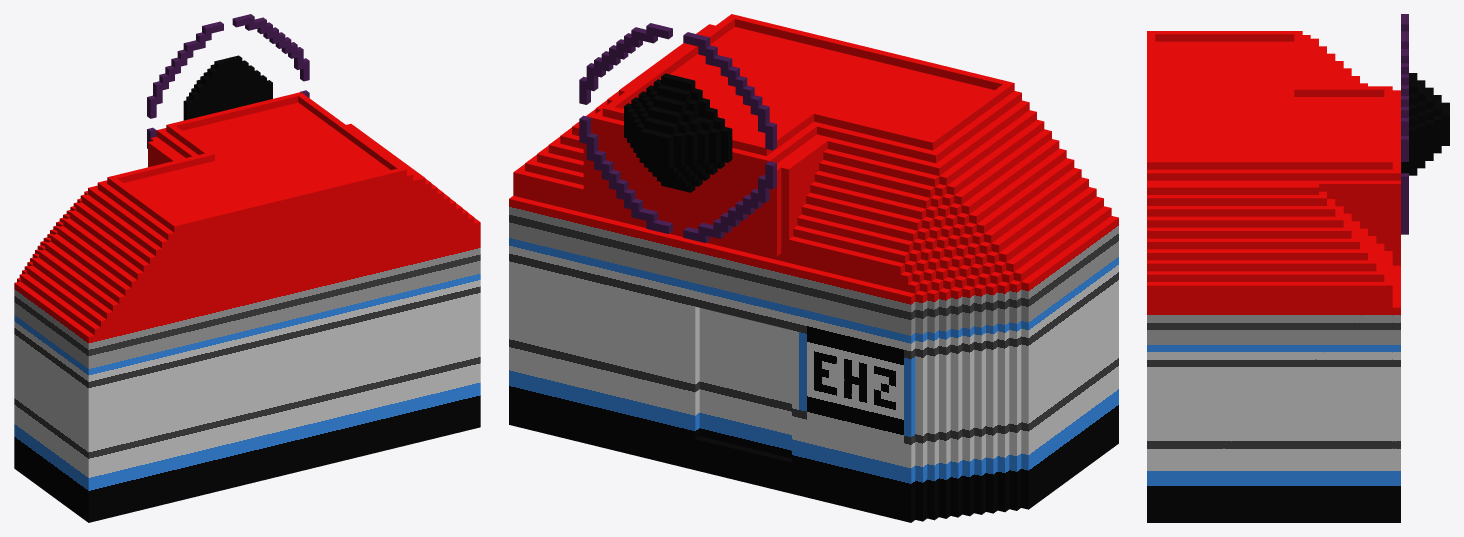
Rendered from House.gltf.
3 renders of one model, left to right at view 1: azimuth 30°, elevation 25°; view 2: azimuth 150°, elevation 25°; view 3: azimuth 270°, elevation 25°, orthographic. The views are drawn at different scales.
Parts seen in each view (by area): view 1: House-Mesh; view 2: House-Mesh; view 3: House-Mesh.
Boxes of the visible parts, box(x1,y1,x2,y2) form: House-Mesh: box(14, 14, 480, 522); House-Mesh: box(509, 14, 1118, 522); House-Mesh: box(1147, 14, 1449, 522).
Bounding box in the file's own units: 64 × 56 × 37.
Materials: 1 (1 with a texture image).
